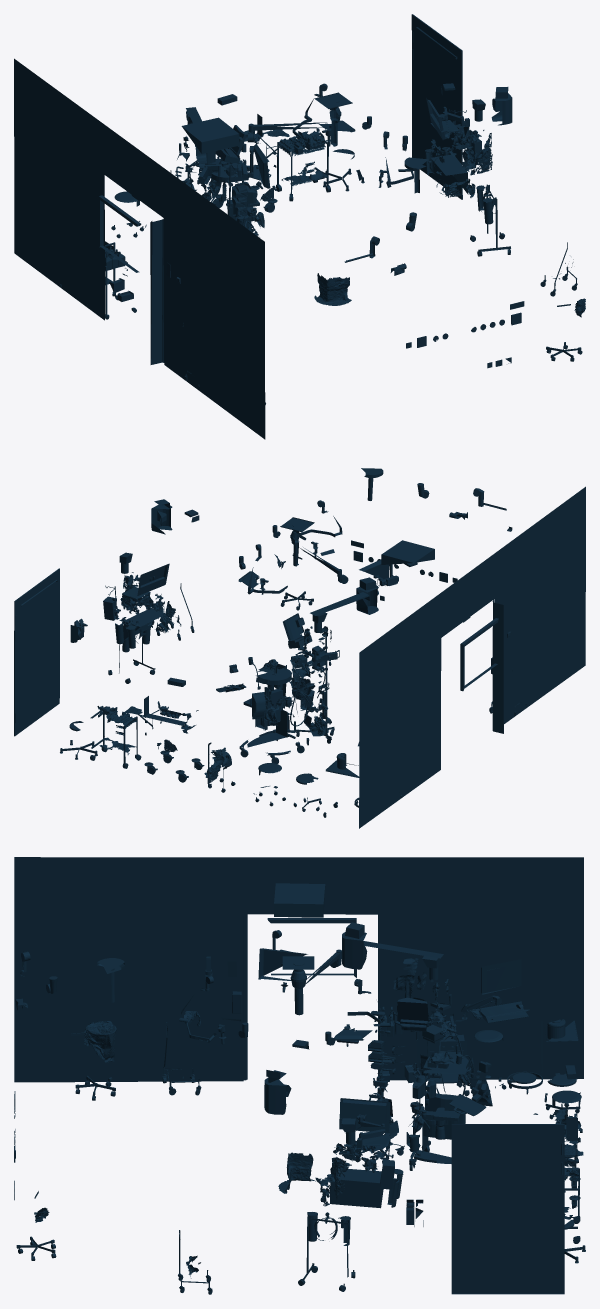
File: charite_university_hospital_-_operating_room_3.obj
3 views of the same model, one above another, from view 1: azimuth 30°, elevation 25°; view 2: azimuth 150°, elevation 25°; view 3: azimuth 270°, elevation 25° (orthographic). The views are drawn at different scales.
Size of the model in its own units: 5.88 by 2.77 by 6.31.
